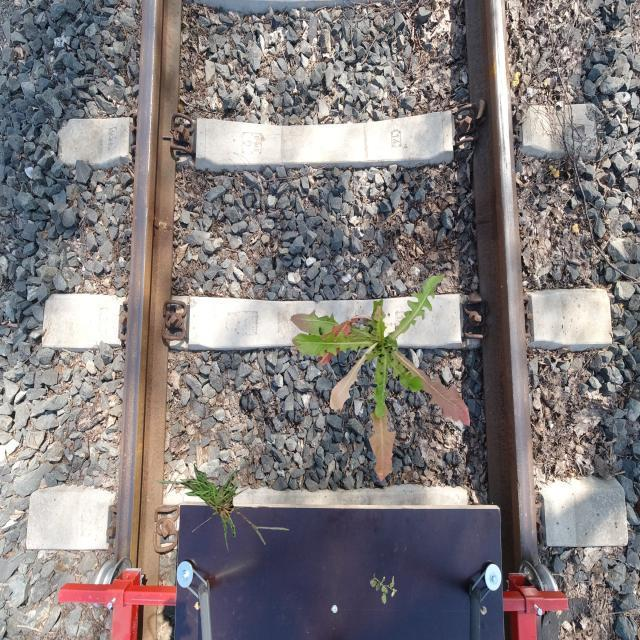Plant: (291, 274, 471, 482), (146, 464, 290, 554), (370, 573, 398, 604)
